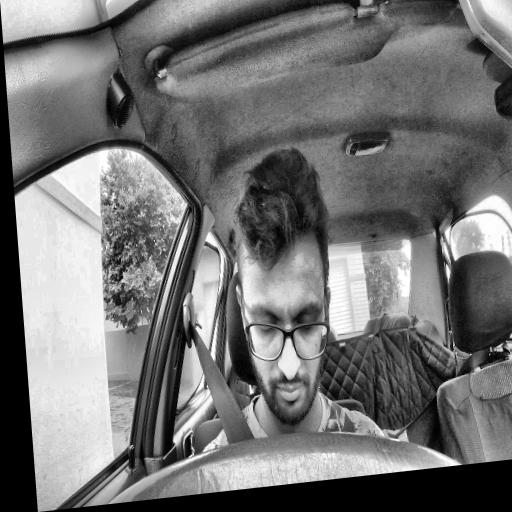drowsy: (224, 143, 343, 432)
